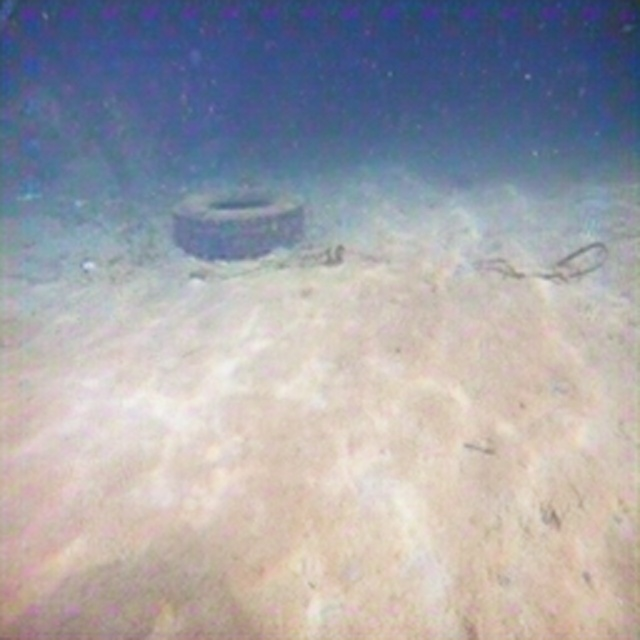mine: (171, 187, 305, 258)
